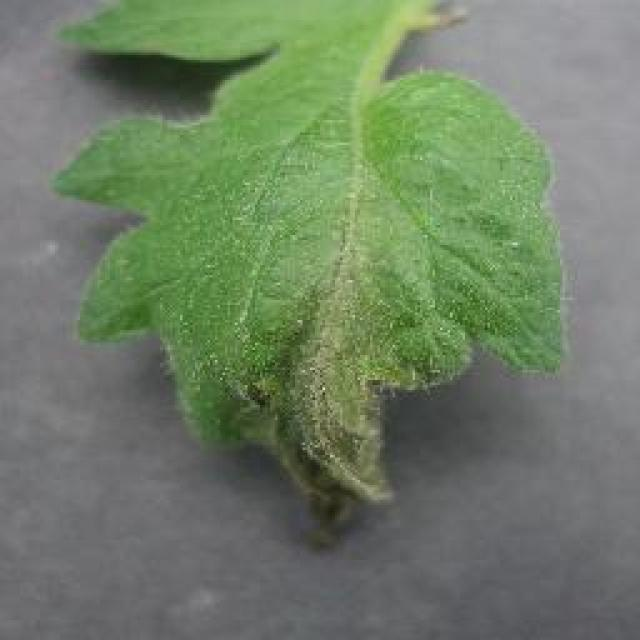Tomato___Late_blight: (48, 0, 570, 550)
